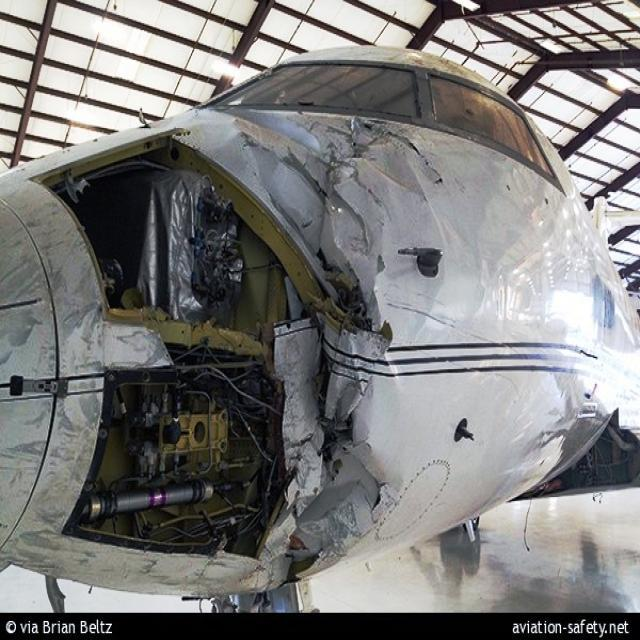crack: (365, 125, 448, 191), (352, 455, 393, 518)
